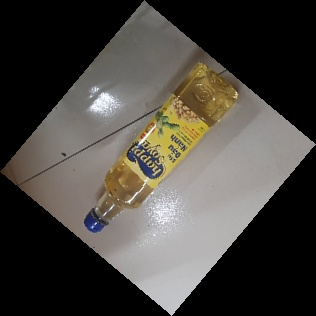Happy Soya: (82, 61, 239, 233)
